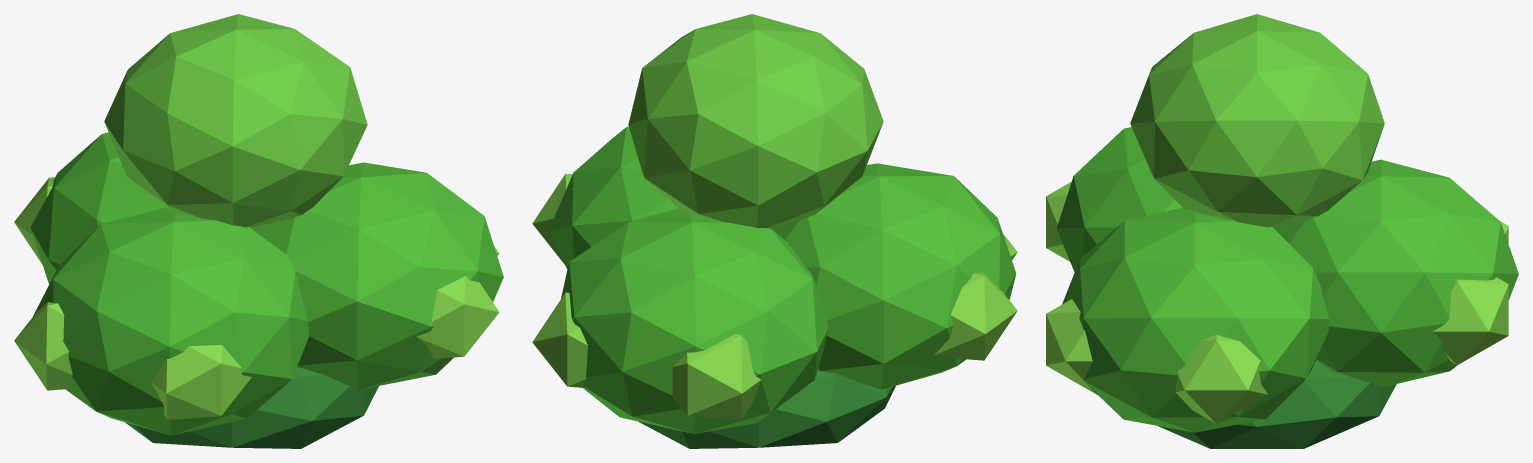
File: OakleafLeaves.obj
3 views of the same model, side by side, from view 1: azimuth 30°, elevation 25°; view 2: azimuth 150°, elevation 25°; view 3: azimuth 270°, elevation 25° (orthographic).
Parts seen in each view (by area): view 1: OakleafLeaves_OakLobes, OakleafLeaves_OakCrown, OakleafLeaves_OakScallops, OakleafLeaves_OakBase; view 2: OakleafLeaves_OakLobes, OakleafLeaves_OakCrown, OakleafLeaves_OakScallops, OakleafLeaves_OakBase; view 3: OakleafLeaves_OakLobes, OakleafLeaves_OakCrown, OakleafLeaves_OakScallops, OakleafLeaves_OakBase.
Boxes of the visible parts, <box> form: OakleafLeaves_OakLobes: <box>30,132,503,435</box>; OakleafLeaves_OakCrown: <box>104,14,367,227</box>; OakleafLeaves_OakScallops: <box>14,177,499,419</box>; OakleafLeaves_OakBase: <box>125,367,378,448</box>; OakleafLeaves_OakLobes: <box>548,126,1016,433</box>; OakleafLeaves_OakCrown: <box>628,14,883,228</box>; OakleafLeaves_OakScallops: <box>532,173,1017,419</box>; OakleafLeaves_OakBase: <box>639,370,895,448</box>; OakleafLeaves_OakLobes: <box>1056,127,1518,432</box>; OakleafLeaves_OakCrown: <box>1130,14,1384,227</box>; OakleafLeaves_OakScallops: <box>1046,182,1508,423</box>; OakleafLeaves_OakBase: <box>1158,361,1396,448</box>.
Size of the model in its own units: 3.43 by 2.72 by 3.13.
